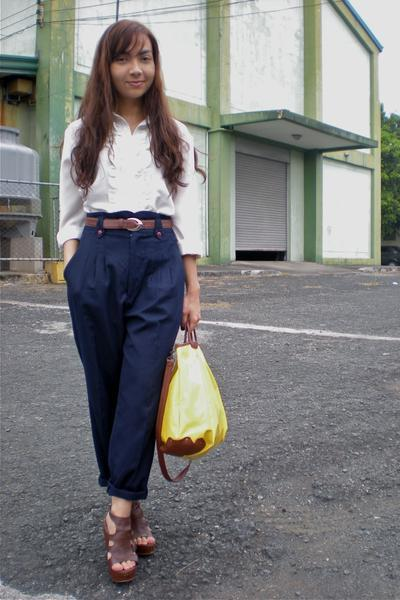long sleeve shirt: (48, 110, 211, 257)
trousers: (47, 212, 199, 504)
